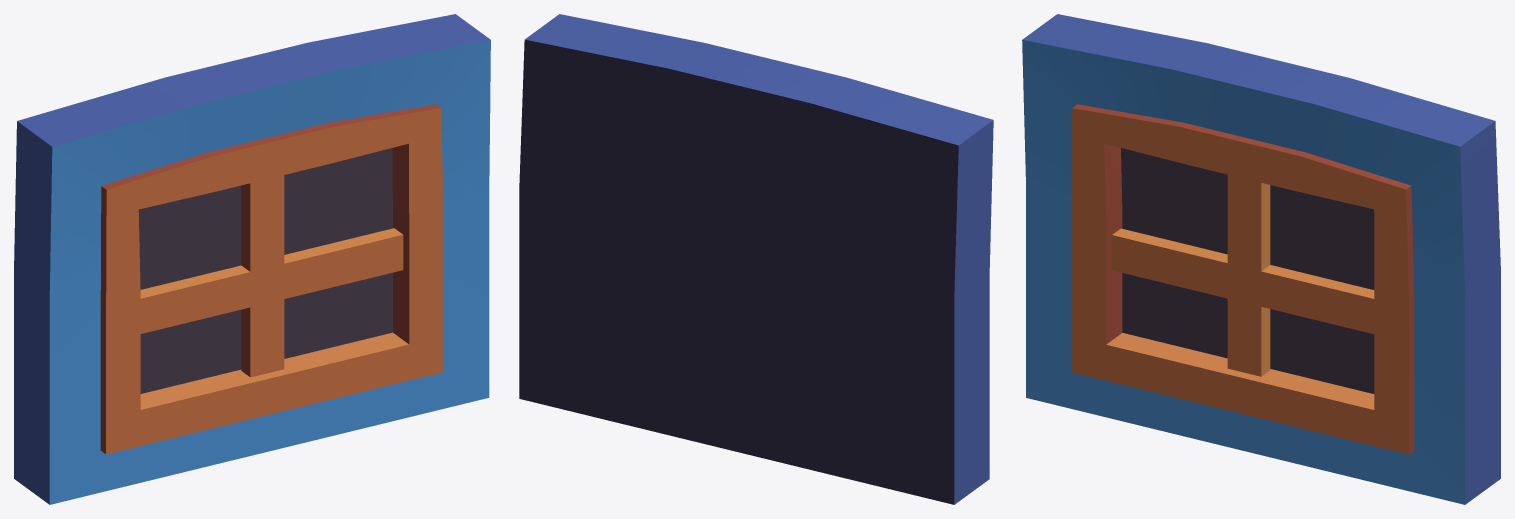
Rendered from Window02_Blue_Wood.glb.
3 views of the same model, side by side, from view 1: azimuth 30°, elevation 25°; view 2: azimuth 150°, elevation 25°; view 3: azimuth 330°, elevation 25° (orthographic).
Visible parts, largest first — view 1: Window02_Blue_Wood; view 2: Window02_Blue_Wood; view 3: Window02_Blue_Wood.
Part boxes in pixels (x1=…): Window02_Blue_Wood: x1=14, y1=14, x2=490, y2=504; Window02_Blue_Wood: x1=519, y1=14, x2=993, y2=504; Window02_Blue_Wood: x1=1022, y1=14, x2=1500, y2=504.
Size of the model in its own units: 0.9012 by 0.7186 by 0.1456.
1 material, 1 textured.
